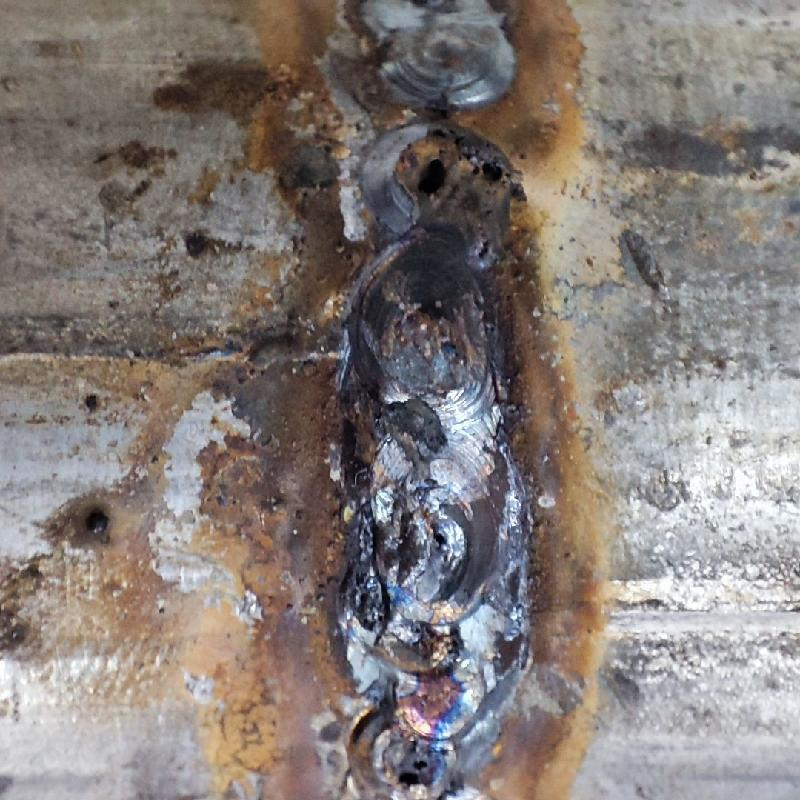Surface_pores: (398, 135, 506, 200), (417, 515, 469, 555)
crater: (345, 415, 523, 797)
wrong_size: (327, 0, 523, 407)
